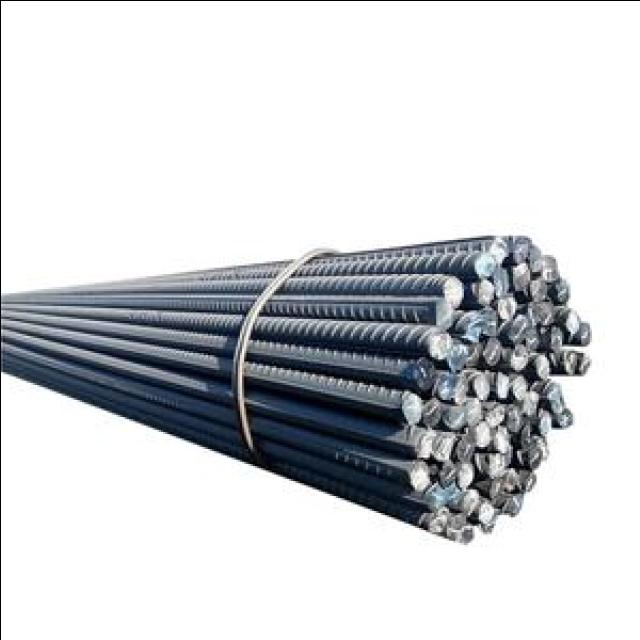Rebar: (504, 311, 529, 343), (411, 359, 435, 392), (428, 504, 452, 536), (460, 307, 483, 340), (474, 497, 496, 531), (452, 434, 478, 462), (436, 300, 462, 327), (429, 328, 452, 358), (525, 436, 547, 466), (442, 277, 464, 307), (488, 426, 512, 453), (408, 460, 431, 488), (433, 370, 453, 402), (422, 397, 444, 426), (531, 300, 555, 326), (473, 251, 497, 277), (546, 380, 568, 408), (445, 510, 464, 542), (513, 232, 532, 264), (452, 371, 472, 401), (489, 369, 510, 397), (482, 338, 503, 366), (496, 293, 518, 319), (490, 232, 509, 262), (425, 479, 445, 507), (433, 431, 453, 459), (483, 400, 503, 428), (528, 243, 546, 274), (459, 488, 481, 513), (485, 477, 506, 503), (437, 458, 457, 485), (504, 404, 524, 431), (563, 307, 581, 337), (510, 343, 530, 370), (446, 342, 466, 369), (482, 309, 500, 339), (403, 394, 422, 422), (510, 371, 529, 399), (484, 452, 506, 476), (455, 459, 475, 485), (470, 421, 490, 447), (417, 429, 437, 455), (476, 277, 496, 303), (501, 465, 519, 493), (516, 420, 534, 448), (472, 371, 490, 399), (552, 275, 570, 303), (513, 265, 531, 293), (491, 267, 509, 295), (519, 389, 538, 415), (464, 395, 483, 421), (445, 403, 465, 427), (544, 326, 564, 350), (530, 276, 550, 300), (520, 470, 539, 495), (557, 352, 576, 376), (574, 321, 592, 346), (502, 493, 522, 515), (536, 410, 554, 434), (543, 254, 559, 281), (455, 526, 474, 548), (534, 353, 550, 379), (465, 339, 481, 365), (575, 351, 593, 373), (443, 483, 459, 507), (557, 409, 575, 429), (524, 328, 539, 352), (502, 443, 518, 465)
